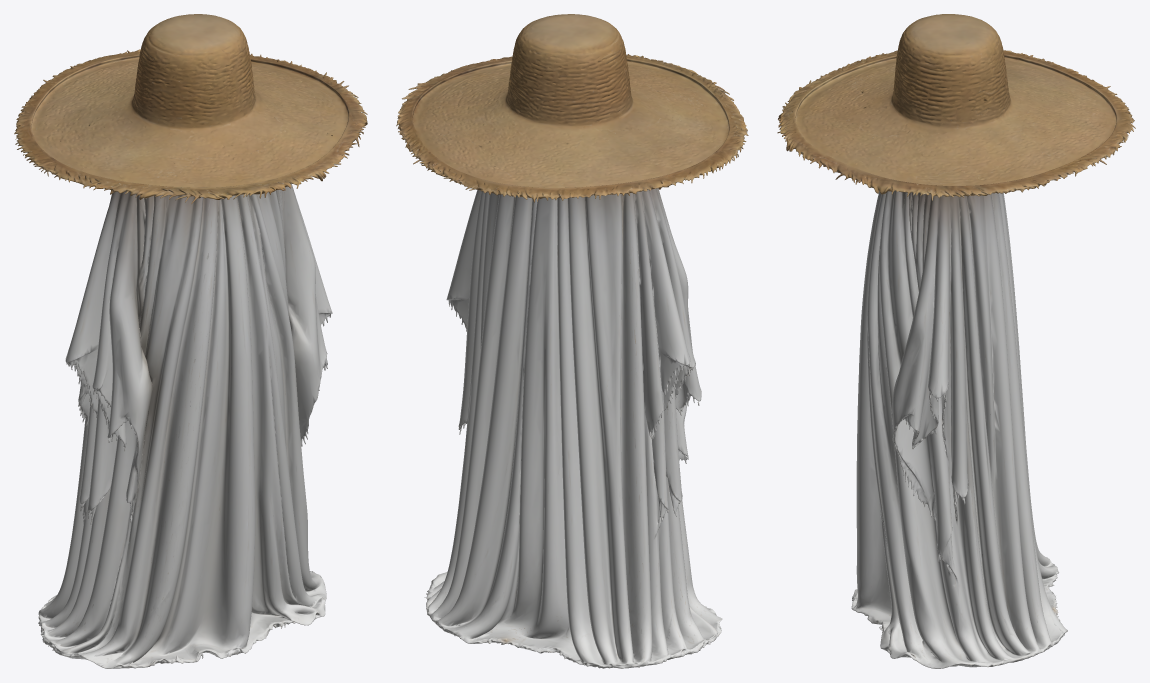
The model's file is duende.glb.
3 renders of one model, left to right at view 1: azimuth 30°, elevation 25°; view 2: azimuth 150°, elevation 25°; view 3: azimuth 270°, elevation 25°, orthographic.
Parts seen in each view (by area): view 1: node_0; view 2: node_0; view 3: node_0.
Boxes of the visible parts, bbox=[...] form: node_0: bbox=[14, 14, 367, 668]; node_0: bbox=[396, 14, 748, 668]; node_0: bbox=[777, 14, 1135, 668].
Size of the model in its own units: 0.6066 by 1.08 by 0.602.
1 material, 1 textured.
